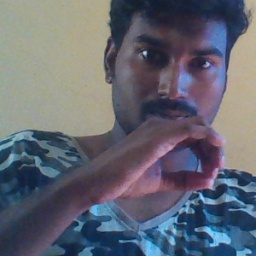O: (94, 105, 228, 204)
